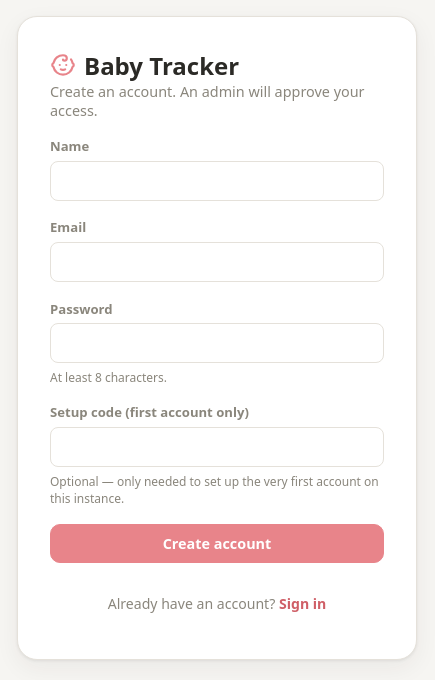
Test: RegisterPage › shows a pending message when no token is returned
The width and height of the screenshot is (435, 680).
Step 1. Type "  Tester  " into the field labelled "Name" → (217, 181), box [50,161,384,201]
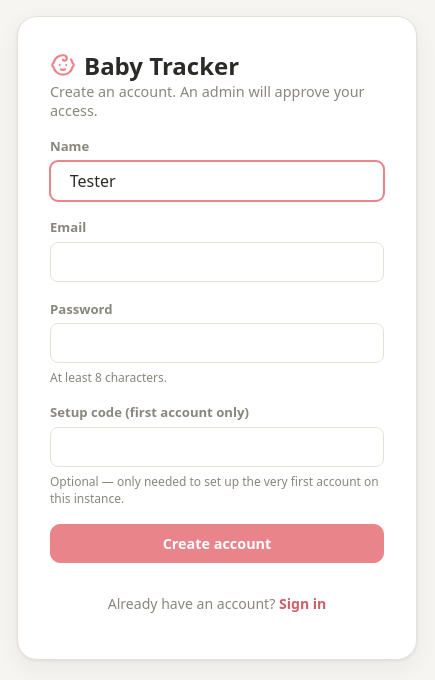
Step 2. Type "t@t.com" into the field labelled "Email" → (217, 262), box [50,242,384,282]
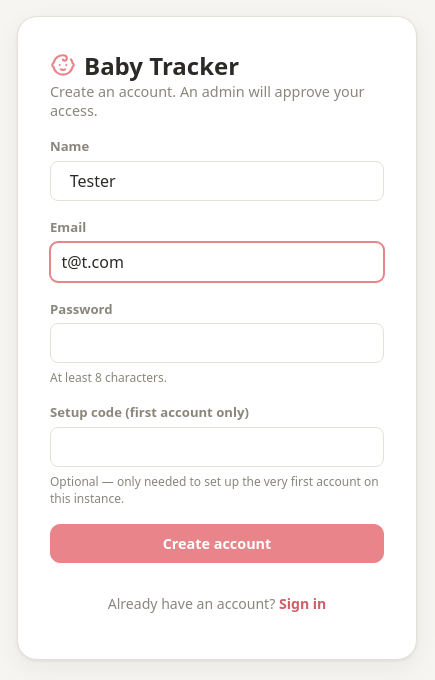
Step 3. Type "secret1234" into the password field labelled "Password" → (217, 343), box [50,323,384,363]
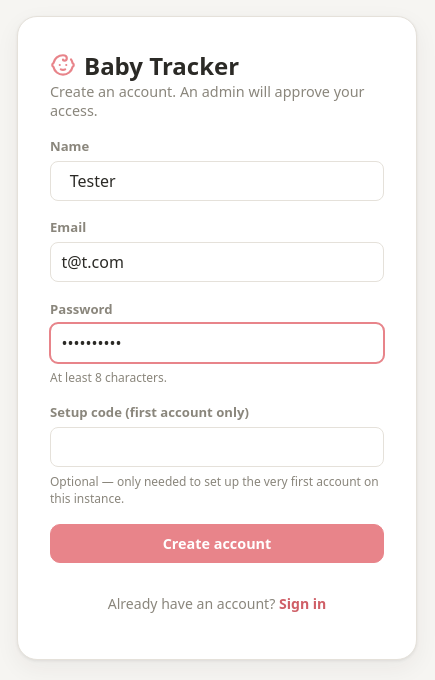
Step 4. Type " bumblebee " into the field labelled "Setup code (first account only)" → (217, 447), box [50,427,384,467]
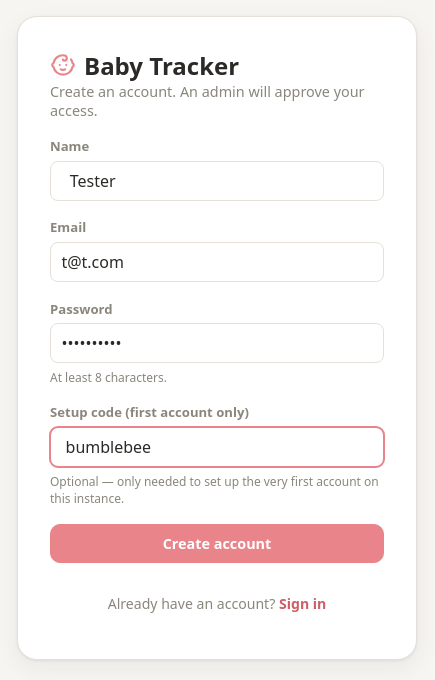
Step 5. Click the button "Create account" → (217, 543), box [50,524,384,563]
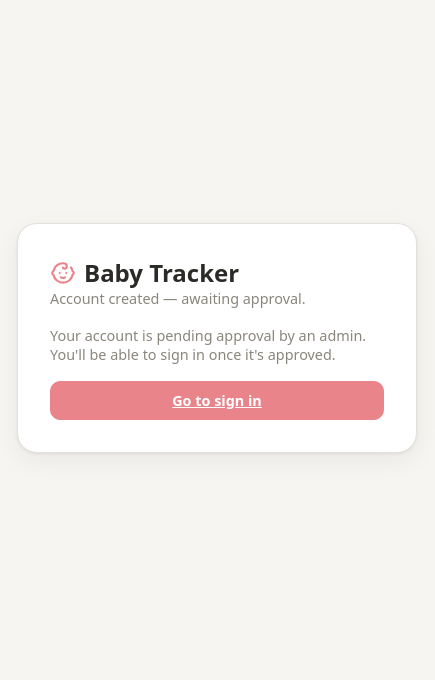
Check: the text "Account created — awaiting approval." is shown, box [50,289,306,308]
